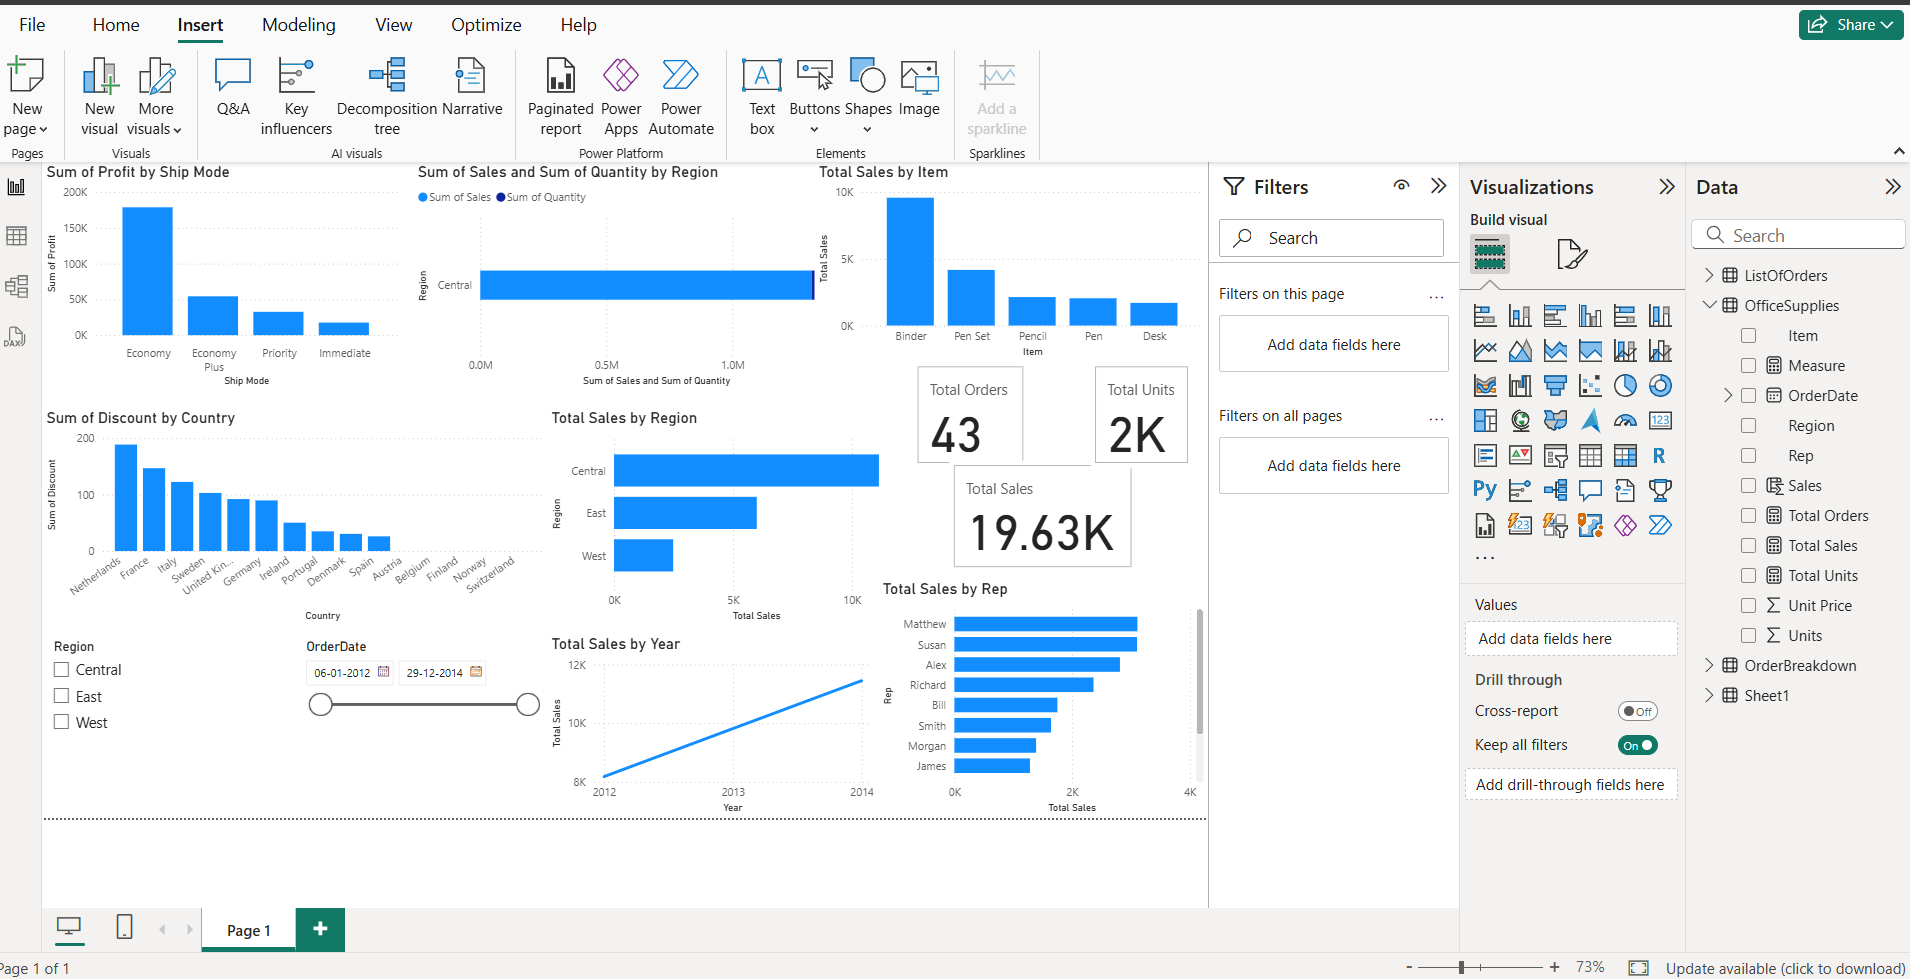

The page's visual inventory and layout, read from the dashboard file:
{"tool":"powerbi","page":{"name":"Page 1","canvas":[1280,720],"ordinal":0},"visuals":[{"type":"clusteredColumnChart","fields":{"Y":["OrderBreakdown.Profit"],"Category":["ListOfOrders.Ship Mode"]},"box":[0,0,395.2,251.1],"z":0},{"type":"barChart","fields":{"Category":["1  Offlice Supplies csv.Region"],"Y":["OrderBreakdown.Sales","OrderBreakdown.Quantity"]},"box":[407.5,0,480.3,251.1],"z":1000},{"type":"clusteredColumnChart","fields":{"Category":["ListOfOrders.Country"],"Y":["OrderBreakdown.Discount"]},"box":[0,270.3,554.4,238.8],"z":2000},{"type":"cardVisual","fields":{"Data":["OfficeSupplies.Total Orders"]},"box":[956.4,219.6,126.2,116.6],"z":3001},{"type":"cardVisual","fields":{"Data":["OfficeSupplies.Total Sales"]},"box":[996.2,328,205.8,122.1],"z":3002},{"type":"cardVisual","fields":{"Data":["OfficeSupplies.Total Units"]},"box":[1151.3,219.6,112.5,116.6],"z":3003},{"type":"barChart","fields":{"Category":["OfficeSupplies.Region"],"Y":["OfficeSupplies.Total Sales"]},"box":[554.4,270.3,402.1,238.8],"z":3004},{"type":"columnChart","fields":{"Category":["OfficeSupplies.Item"],"Y":["OfficeSupplies.Total Sales"]},"box":[848,0,432.2,219.6],"z":3005},{"type":"slicer","fields":{"Values":["OfficeSupplies.OrderDate"]},"box":[277.2,518.7,277.2,201.7],"z":3007},{"type":"lineChart","fields":{"Category":["OfficeSupplies.OrderDate.Variation.Date Hierarchy.Year","OfficeSupplies.OrderDate.Variation.Date Hierarchy.Quarter","OfficeSupplies.OrderDate.Variation.Date Hierarchy.Month","OfficeSupplies.OrderDate.Variation.Date Hierarchy.Day"],"Y":["OfficeSupplies.Total Sales"]},"box":[554.4,518.7,363.6,201.7],"z":3008},{"type":"clusteredBarChart","fields":{"Category":["OfficeSupplies.Rep"],"Y":["OfficeSupplies.Total Sales"]},"box":[918,458.3,362.3,262.1],"z":3009},{"type":"slicer","fields":{"Values":["OfficeSupplies.Region"]},"box":[0,519,277,201],"z":3010}]}

Visuals, with their boxes on the page's 1280x720 design canvas (x1, y1, x2, y2). These are canvas units, not pixel positions in the 1910x979 screenshot, which may show the page scaled, cropped or inside an application window:
clusteredColumnChart - OrderBreakdown.Profit x ListOfOrders.Ship Mode: <region>0, 0, 395, 251</region>
barChart - 1  Offlice Supplies csv.Region x OrderBreakdown.Sales: <region>408, 0, 888, 251</region>
clusteredColumnChart - ListOfOrders.Country x OrderBreakdown.Discount: <region>0, 270, 554, 509</region>
cardVisual - OfficeSupplies.Total Orders: <region>956, 220, 1083, 336</region>
cardVisual - OfficeSupplies.Total Sales: <region>996, 328, 1202, 450</region>
cardVisual - OfficeSupplies.Total Units: <region>1151, 220, 1264, 336</region>
barChart - OfficeSupplies.Region x OfficeSupplies.Total Sales: <region>554, 270, 956, 509</region>
columnChart - OfficeSupplies.Item x OfficeSupplies.Total Sales: <region>848, 0, 1280, 220</region>
slicer - OfficeSupplies.OrderDate: <region>277, 519, 554, 720</region>
lineChart - OfficeSupplies.OrderDate.Variation.Date Hierarchy.Year x OfficeSupplies.OrderDate.Variation.Date Hierarchy.Quarter: <region>554, 519, 918, 720</region>
clusteredBarChart - OfficeSupplies.Rep x OfficeSupplies.Total Sales: <region>918, 458, 1280, 720</region>
slicer - OfficeSupplies.Region: <region>0, 519, 277, 720</region>
